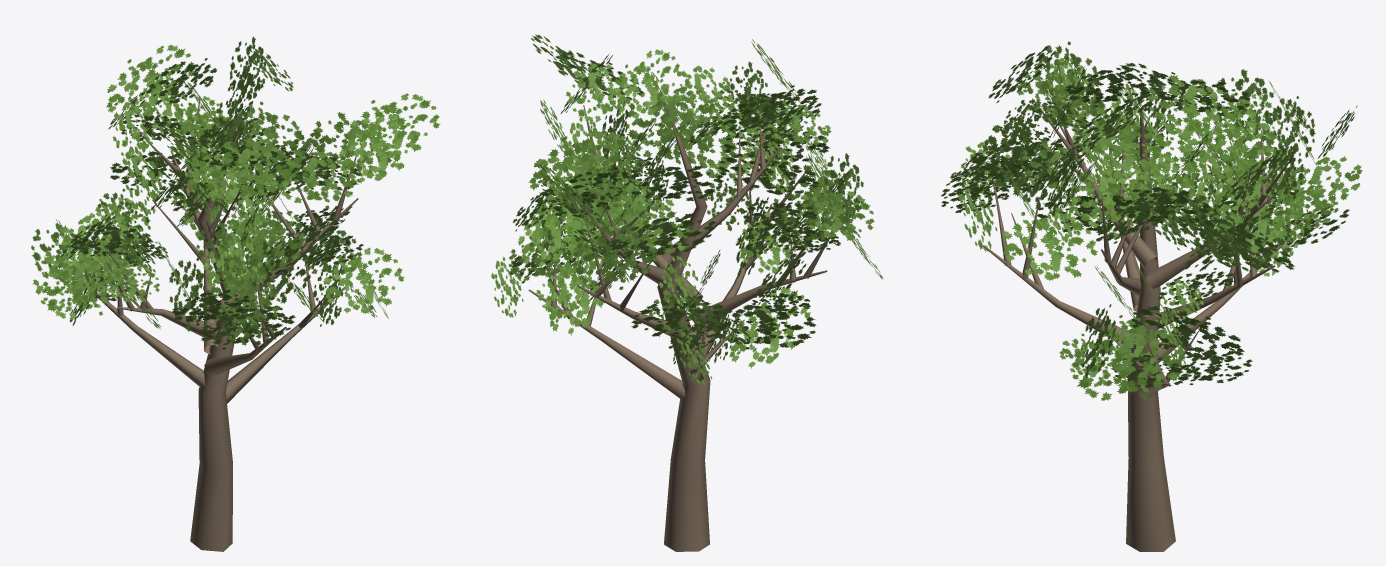
The model's file is maple-79-balanced.glb.
3 views of the same model, side by side, from view 1: azimuth 30°, elevation 25°; view 2: azimuth 150°, elevation 25°; view 3: azimuth 270°, elevation 25° (orthographic). The views are drawn at different scales.
Visible parts, largest first — view 1: LeafCards, Wood; view 2: LeafCards, Wood; view 3: LeafCards, Wood.
Boxes of the visible parts, <box> form: LeafCards: <box>31,36,440,349</box>; Wood: <box>71,97,358,551</box>; LeafCards: <box>491,34,882,385</box>; Wood: <box>528,105,829,551</box>; LeafCards: <box>941,41,1362,400</box>; Wood: <box>983,98,1294,551</box>.
Size of the model in its own units: 12.91 by 15.16 by 11.77.
2 materials, 1 textured.
